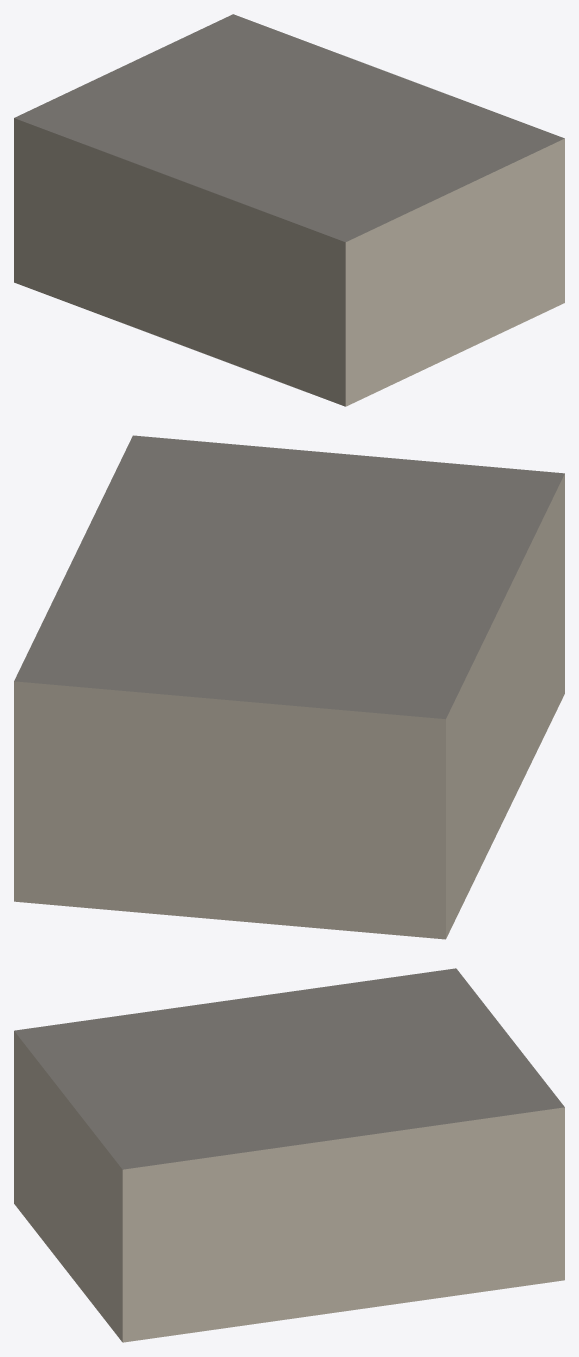
3 views of the same model, one above another, from view 1: azimuth 30°, elevation 25°; view 2: azimuth 150°, elevation 25°; view 3: azimuth 270°, elevation 25° (orthographic). The views are drawn at different scales.
Visible parts, largest first — view 1: HP-w1330881101; view 2: HP-w1330881101; view 3: HP-w1330881101.
Boxes of the visible parts, x1,y1,x2,y2 form: HP-w1330881101: (14, 14, 564, 406); HP-w1330881101: (14, 435, 564, 939); HP-w1330881101: (14, 968, 564, 1342).
Bounding box in the file's own units: 44.93 × 18 × 51.96.
